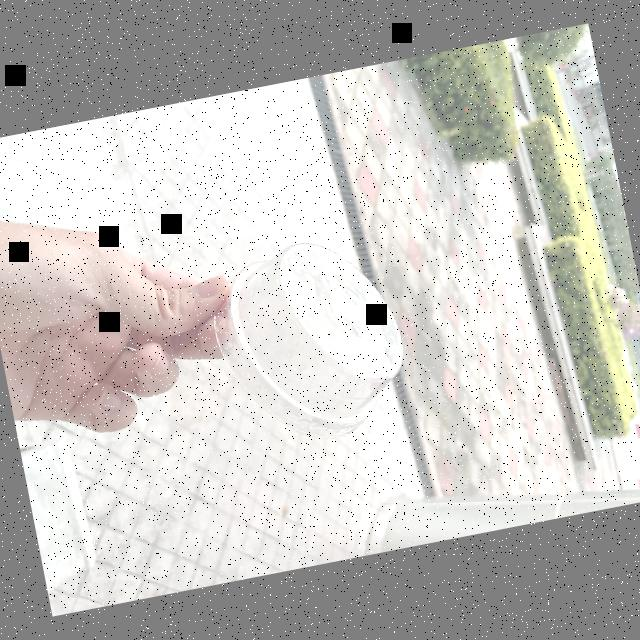plastic_cup_lid: (194, 220, 420, 466)
